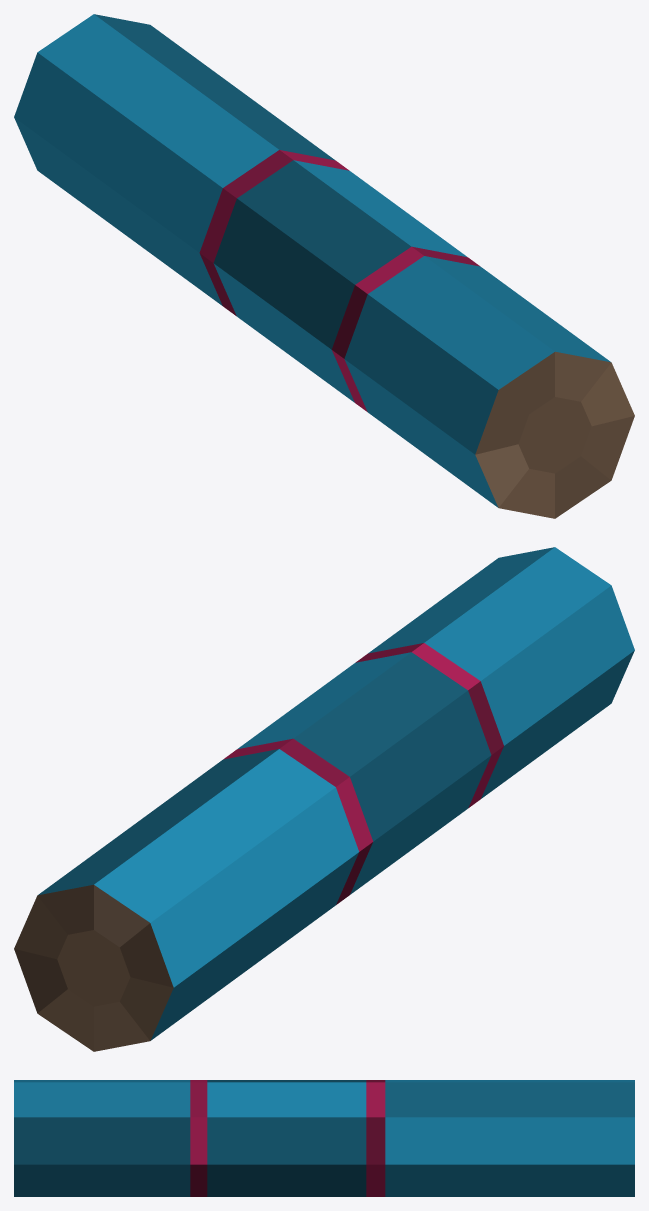
Rendered from Prop_TextileA.fbx.
3 renders of one model, top to bottom at view 1: azimuth 30°, elevation 25°; view 2: azimuth 150°, elevation 25°; view 3: azimuth 270°, elevation 25°, orthographic. The views are drawn at different scales.
Parts seen in each view (by area): view 1: Prop_TextileA; view 2: Prop_TextileA; view 3: Prop_TextileA.
Boxes of the visible parts, x1=… form: Prop_TextileA: x1=14, y1=14, x2=634, y2=518; Prop_TextileA: x1=14, y1=547, x2=634, y2=1051; Prop_TextileA: x1=14, y1=1080, x2=634, y2=1196.
Size of the model in its own units: 20 by 20 by 100.
